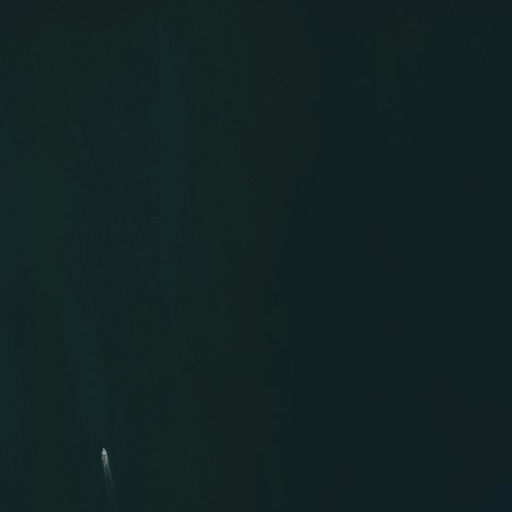ship: (99, 446, 110, 465)
